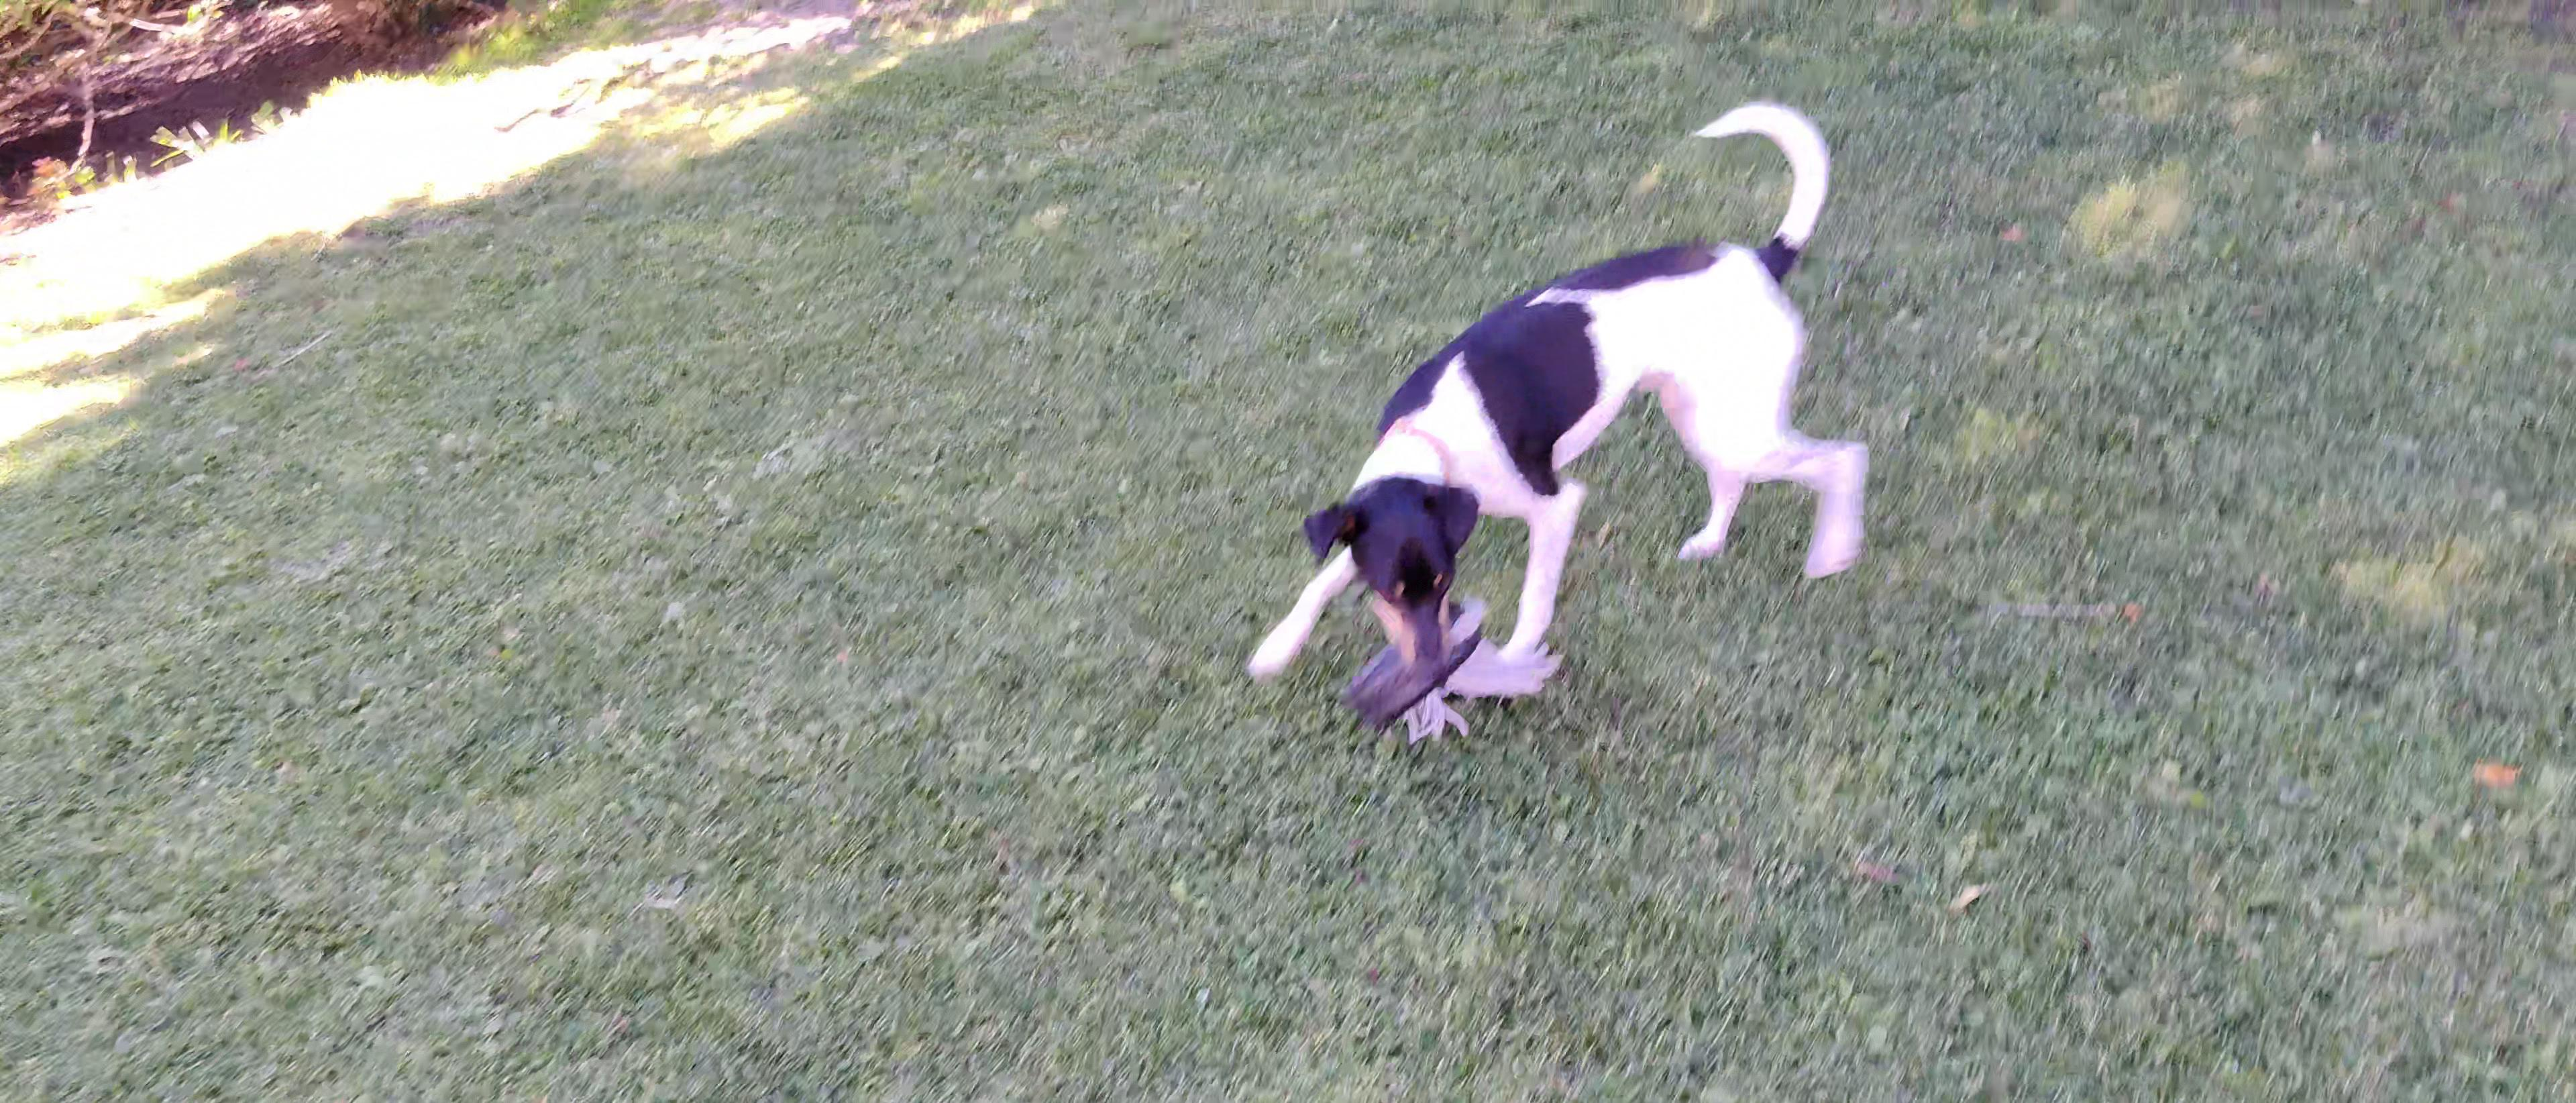Dog: (1219, 94, 1884, 725)
